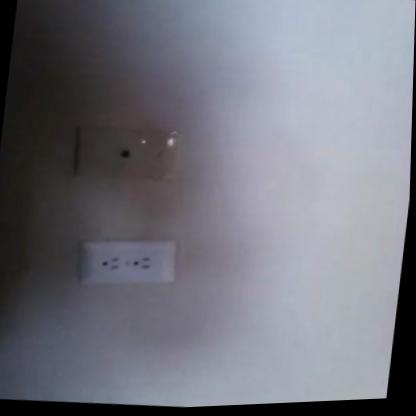OUTLET: (75, 232, 177, 291)
